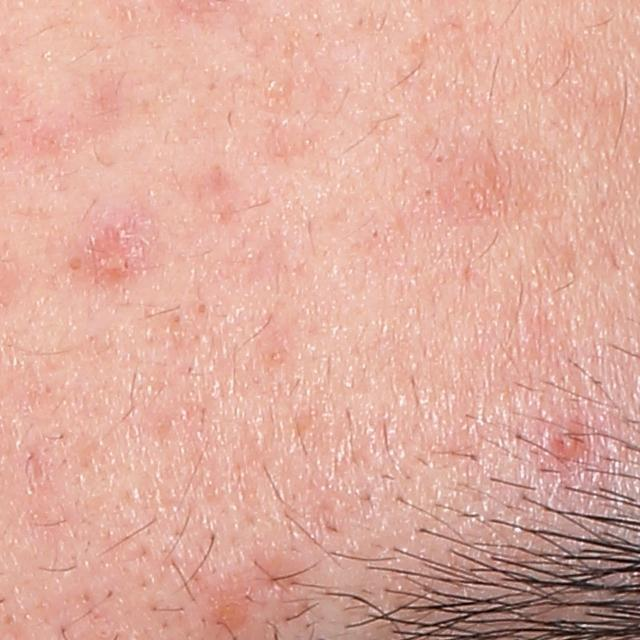comedo: (65, 256, 81, 273), (194, 300, 209, 316), (433, 152, 445, 164)
papule: (88, 218, 144, 270), (209, 592, 262, 633)
